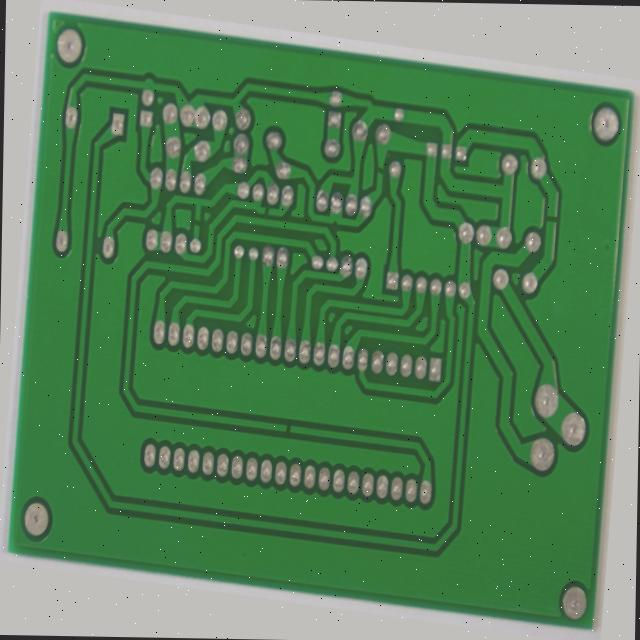open_circuit: (549, 165, 565, 183), (368, 135, 381, 152), (288, 436, 300, 454), (178, 218, 190, 235), (252, 197, 262, 212)
